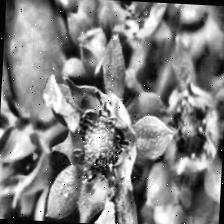Blossom Blight: (68, 87, 140, 202)
